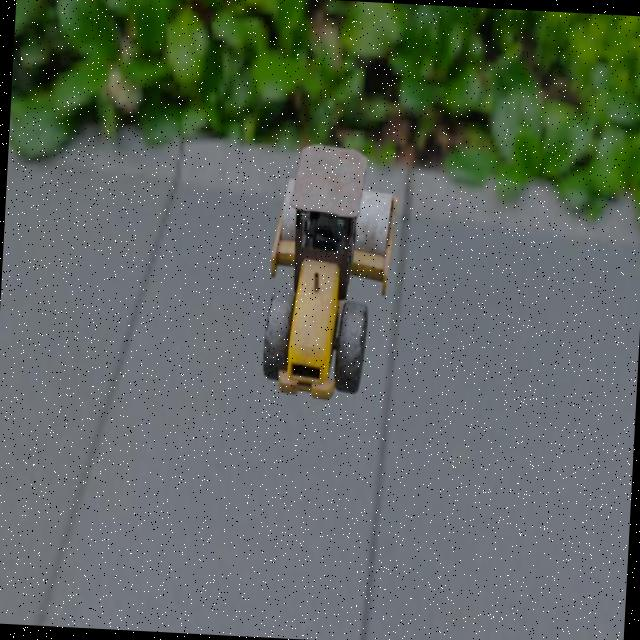Roller: (260, 140, 400, 404)
